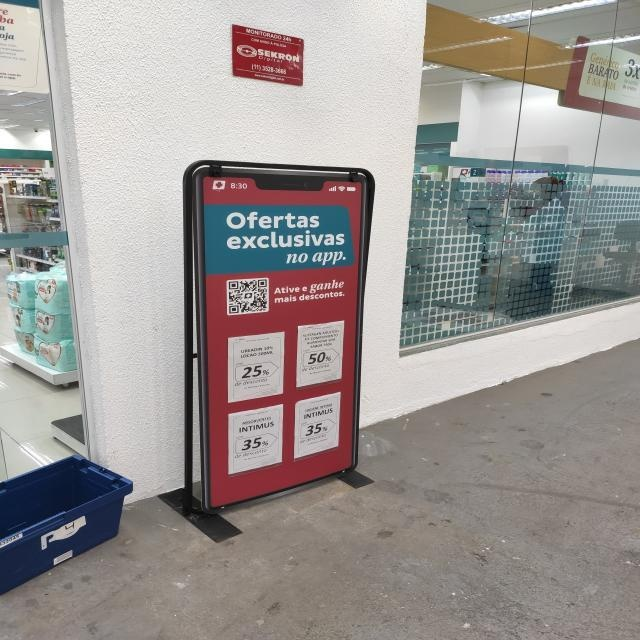qr-code: (228, 279, 268, 314)
